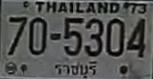0: (106, 18, 124, 56), (28, 16, 46, 54)
3: (84, 17, 103, 56)
4: (126, 18, 144, 56)
5: (63, 17, 82, 55)
7: (8, 16, 26, 54)
RBR: (53, 58, 100, 79)
